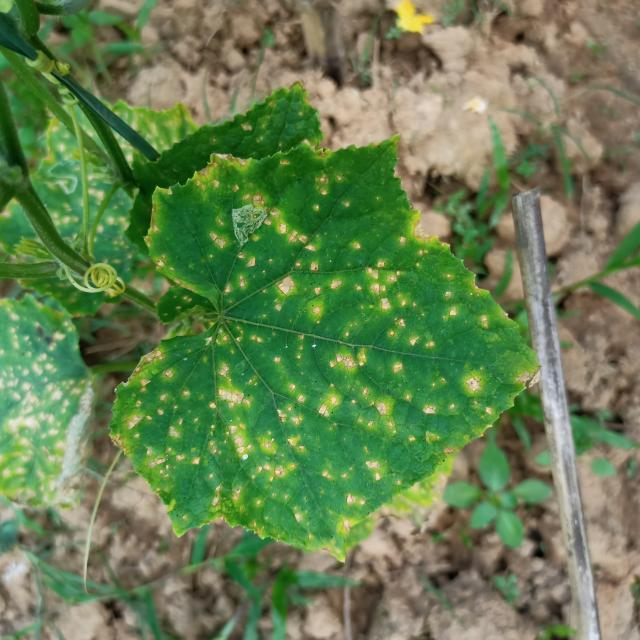disease_cucumber: (115, 158, 502, 538)
